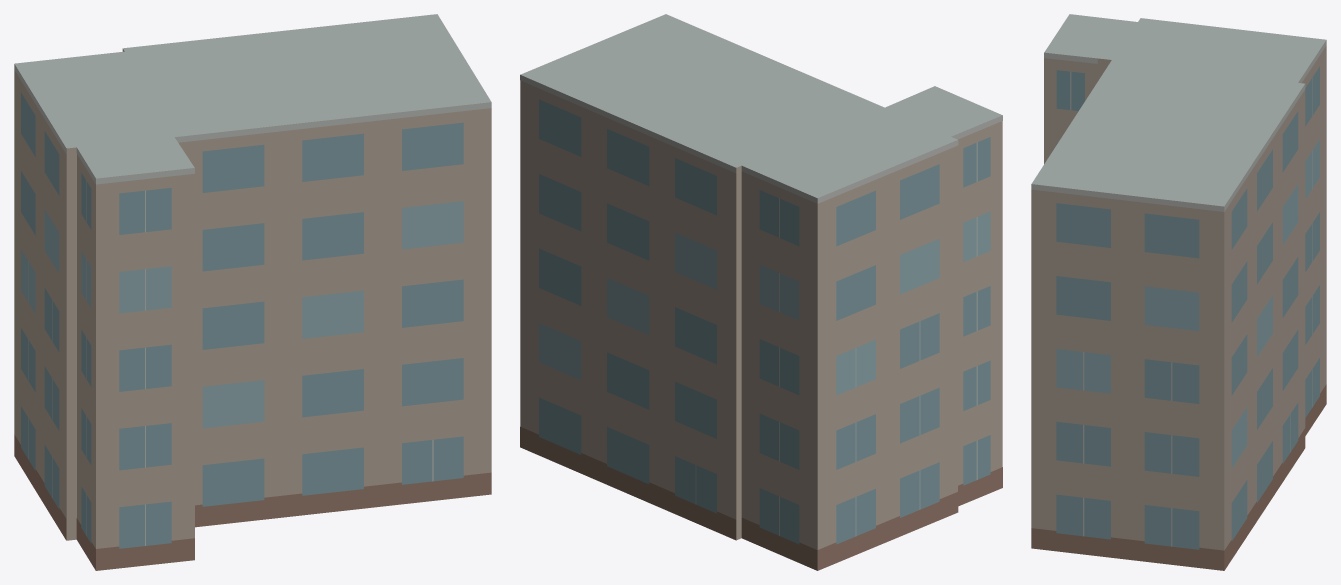
File: survey-upis-32913417.glb
3 views of the same model, side by side, from view 1: azimuth 30°, elevation 25°; view 2: azimuth 150°, elevation 25°; view 3: azimuth 270°, elevation 25° (orthographic). The views are drawn at different scales.
Parts seen in each view (by area): view 1: survey-upis-32913417.tmp; view 2: survey-upis-32913417.tmp; view 3: survey-upis-32913417.tmp.
Part boxes in pixels (x1=…): survey-upis-32913417.tmp: x1=14, y1=14, x2=491, y2=570; survey-upis-32913417.tmp: x1=520, y1=14, x2=1002, y2=570; survey-upis-32913417.tmp: x1=1031, y1=14, x2=1326, y2=570.
Size of the model in its own units: 18.48 by 16.3 by 11.98.
